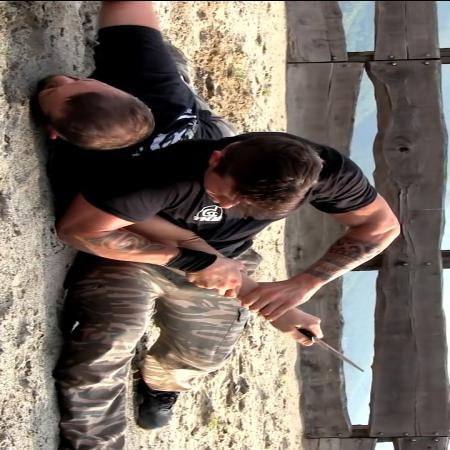long weapon: (264, 320, 372, 374)
